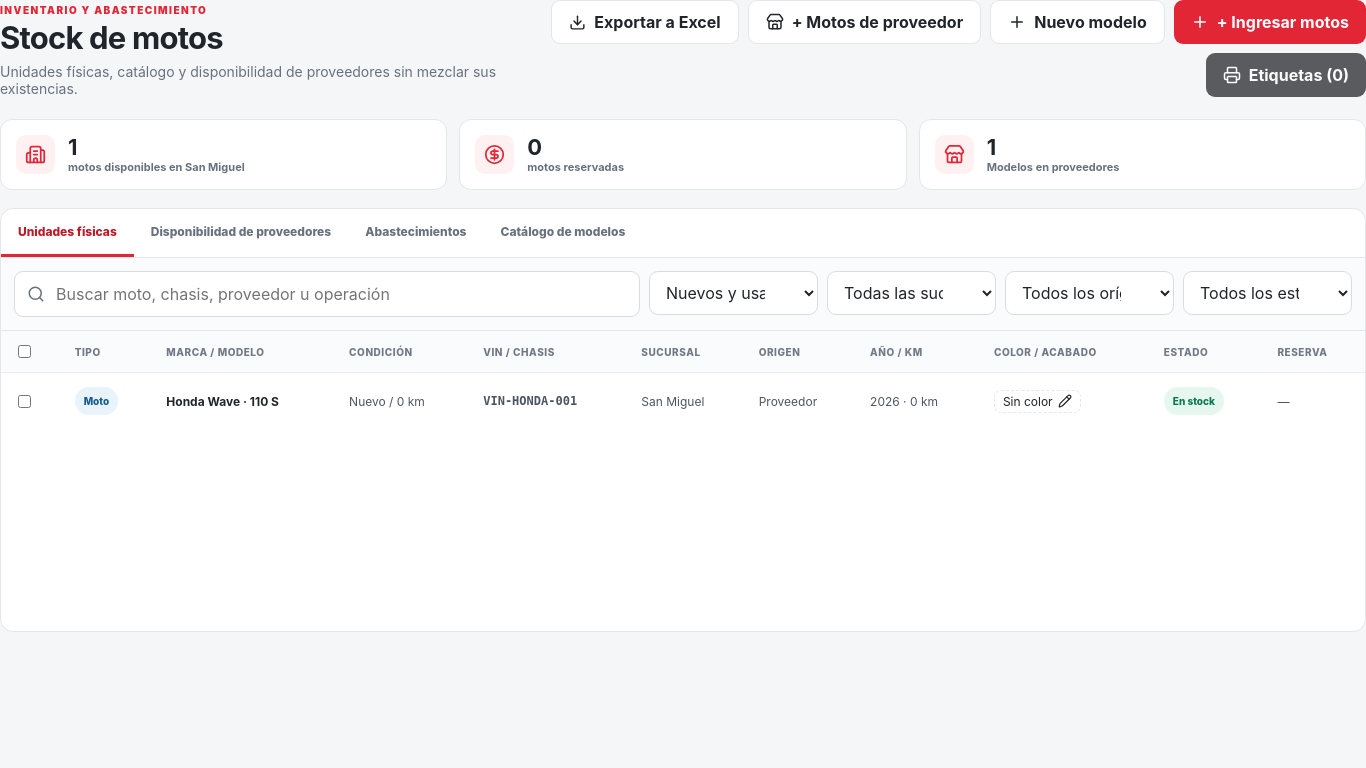
Test: workspace de stock › ofrece alta inline cuando no hay modelos cargados
Click the button "+ Ingresar motos".
click(1270, 22)  # box [1174, 0, 1365, 44]
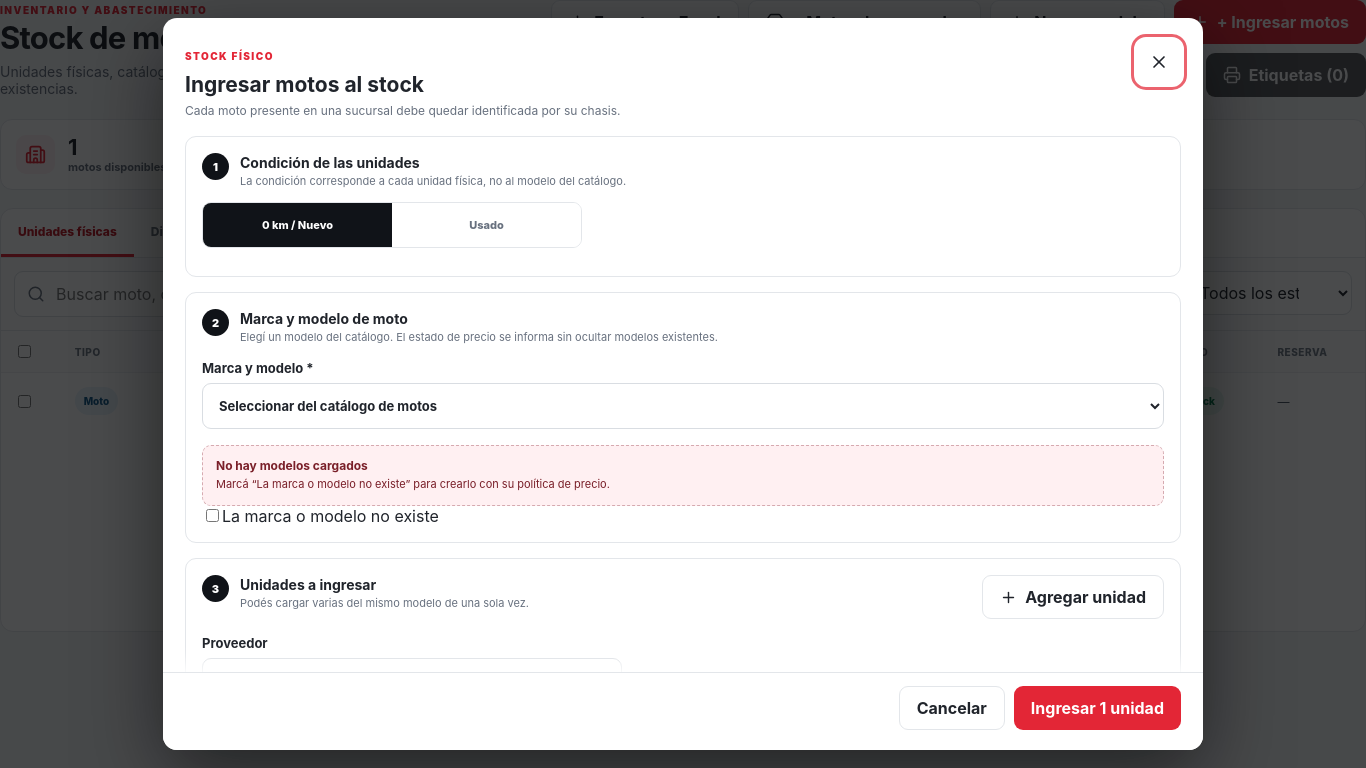
Check: the text "No hay modelos cargados" is shown, box [216, 458, 368, 473]
Check: the checkbox labelled "La marca o modelo no existe" is shown, box [206, 509, 219, 522]
